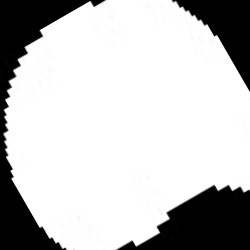spot: (3, 2, 248, 249)
